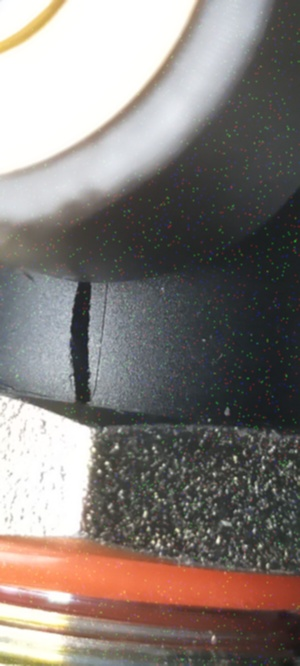craze: (60, 275, 93, 401)
joint line: (96, 280, 113, 393)
